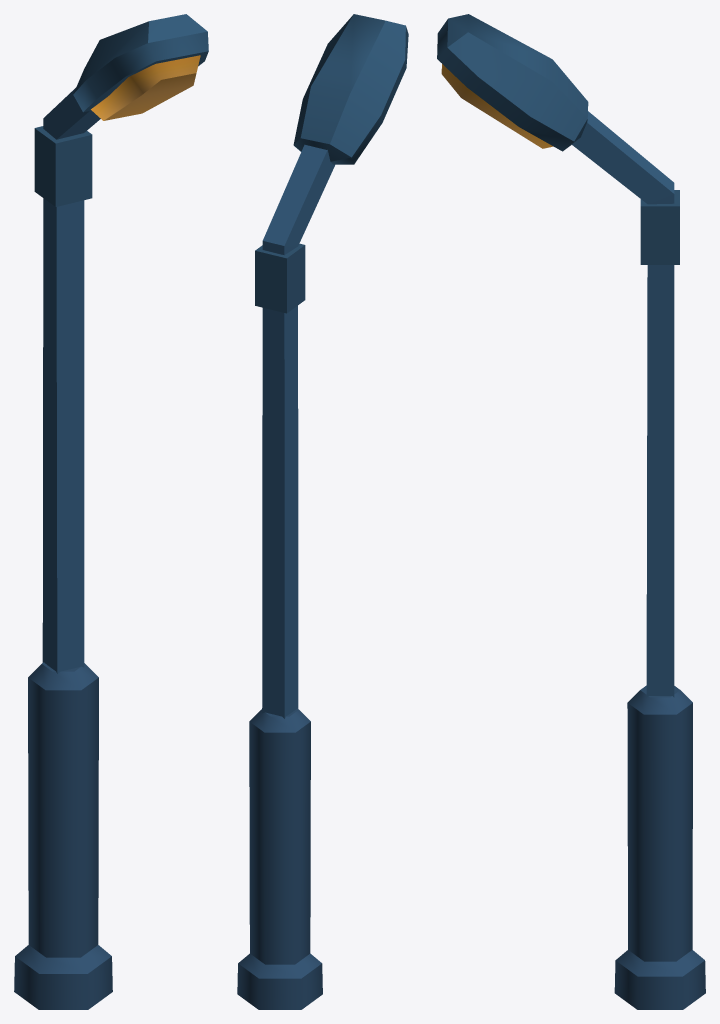
The model's file is Lamp_Court_1_F.fbx.
3 renders of one model, left to right at view 1: azimuth 30°, elevation 25°; view 2: azimuth 150°, elevation 25°; view 3: azimuth 270°, elevation 25°, orthographic. The views are drawn at different scales.
Parts seen in each view (by area): view 1: Lamp_Court_1_F; view 2: Lamp_Court_1_F; view 3: Lamp_Court_1_F.
Boxes of the visible parts, <box> form: Lamp_Court_1_F: <box>14,14,208,1009</box>; Lamp_Court_1_F: <box>237,14,408,1009</box>; Lamp_Court_1_F: <box>437,14,705,1009</box>.
Size of the model in its own units: 58.67 by 648 by 163.
